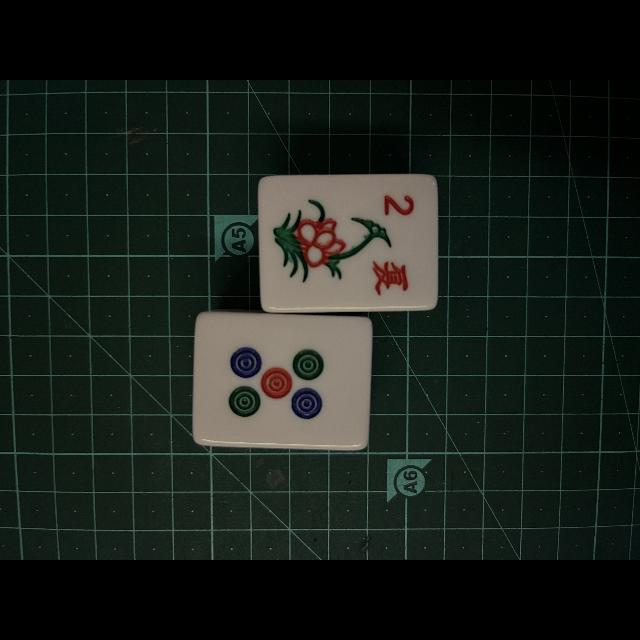d5: (195, 314, 365, 446)
s2: (360, 178, 434, 308)
